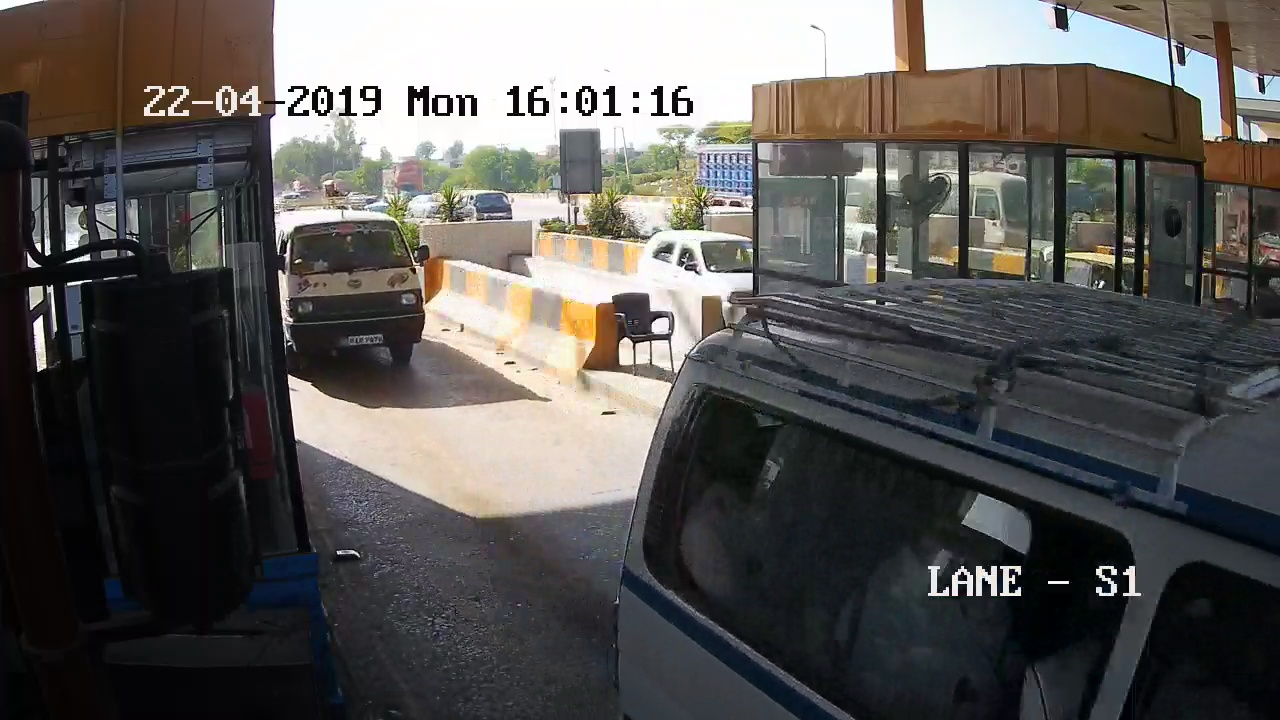car: (597, 294, 1280, 714), (271, 211, 429, 394)
